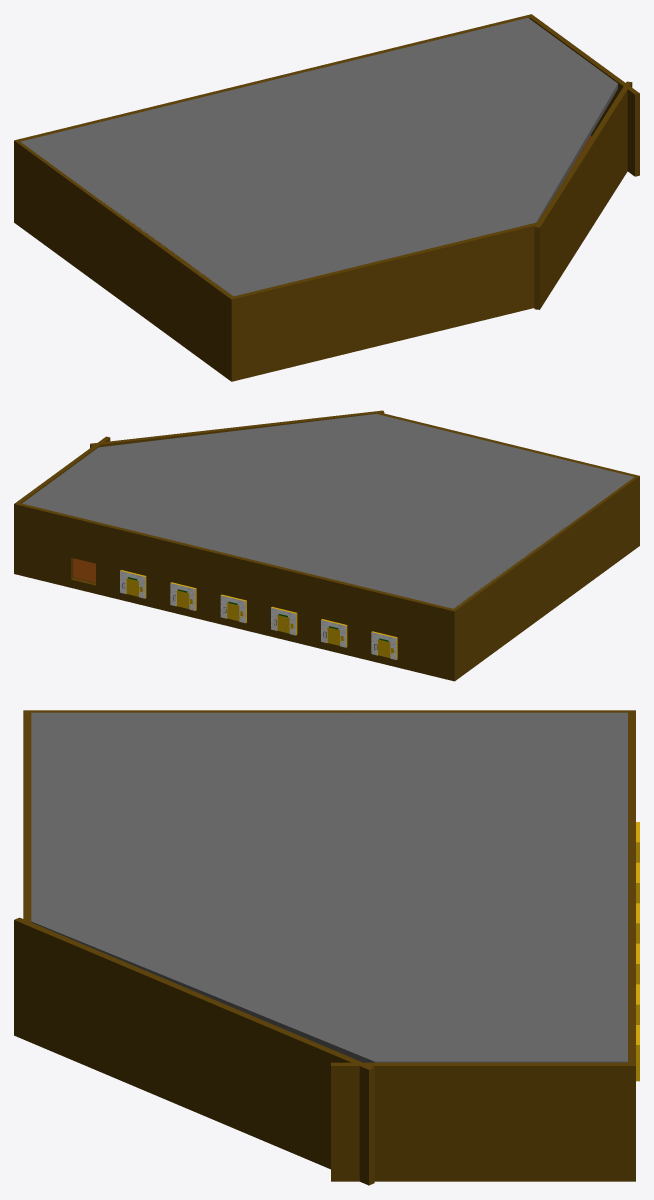
Rendered from Casino Level 3.glb.
3 views of the same model, one above another, from view 1: azimuth 30°, elevation 25°; view 2: azimuth 150°, elevation 25°; view 3: azimuth 270°, elevation 25° (orthographic). The views are drawn at different scales.
Parts seen in each view (by area): view 1: Ceiling, Wall.001, Wall, Wall.002, Wall.004, Wall.003; view 2: Ceiling, Wall.003, Wall, Elev - Inop, Wall.002, Wall.001, Wall.004, Floor; view 3: Ceiling, Wall.002, Wall.004, Wall.003, Wall.001, Wall, Elev - Inop.
Boxes of the visible parts, x1,y1,x2,y2 form: Ceiling: [21, 18, 617, 296]; Wall.001: [228, 222, 539, 381]; Wall: [14, 139, 233, 379]; Wall.002: [534, 81, 632, 309]; Wall.004: [527, 14, 639, 176]; Wall.003: [19, 15, 529, 140]; Ceiling: [22, 414, 633, 608]; Wall.003: [18, 503, 452, 680]; Wall: [450, 477, 637, 681]; Elev - Inop: [120, 570, 397, 659]; Wall.002: [90, 410, 384, 447]; Wall.001: [374, 412, 639, 546]; Wall.004: [14, 436, 110, 574]; Floor: [73, 558, 95, 583]; Ceiling: [31, 712, 627, 1062]; Wall.002: [14, 917, 374, 1185]; Wall.004: [331, 1062, 635, 1181]; Wall.003: [628, 713, 635, 1062]; Wall.001: [23, 710, 31, 922]; Wall: [31, 710, 635, 713]; Elev - Inop: [636, 822, 639, 1081].
Size of what is drawn, in the model's own units: 64.85 by 11.4 by 47.73.
9 materials, 1 textured.
